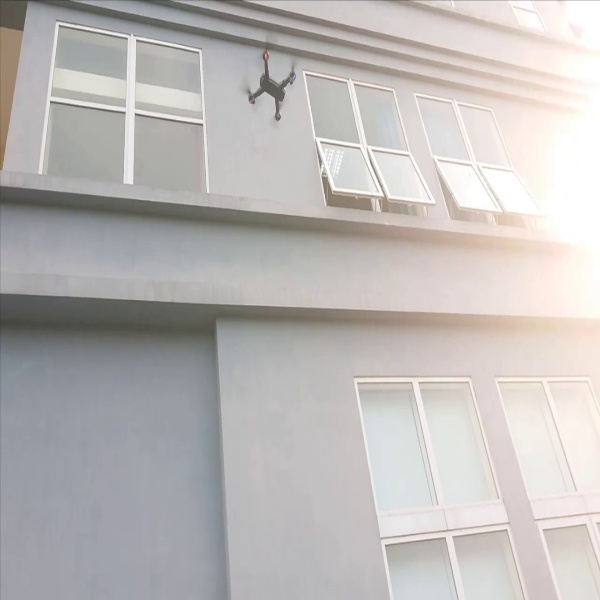drone: (241, 40, 306, 127)
